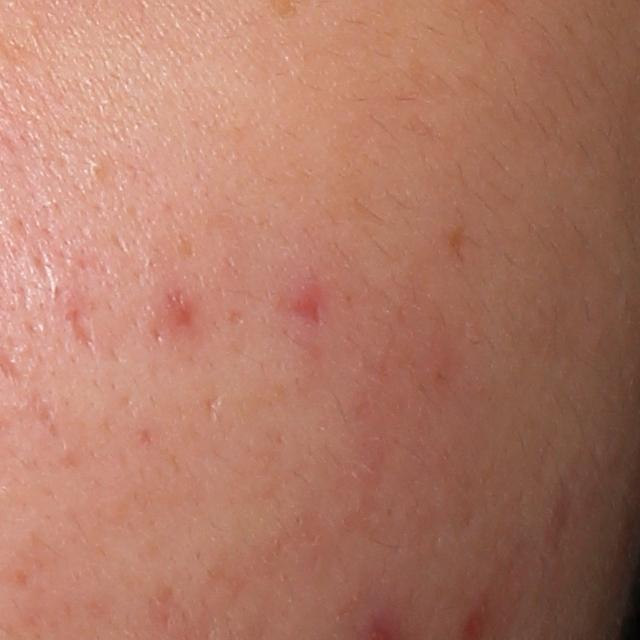atrophic_scar: (62, 300, 99, 359)
comedo: (84, 157, 105, 176)
papule: (163, 290, 197, 334)
